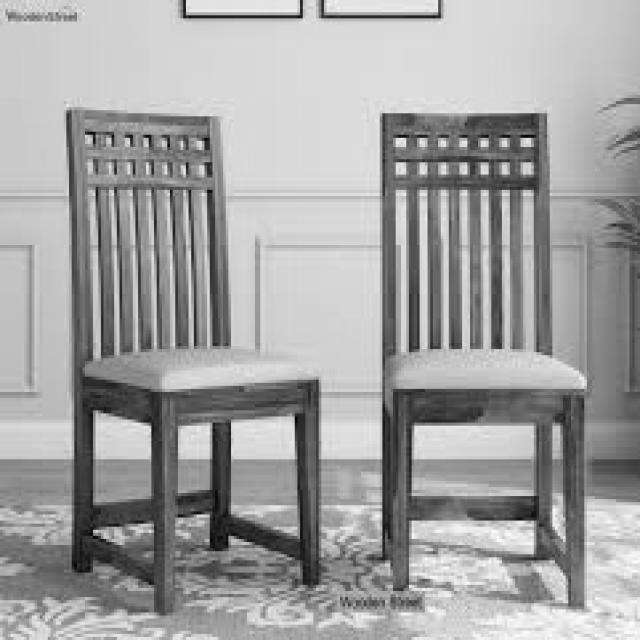chair: (61, 104, 327, 616), (376, 106, 590, 611)
